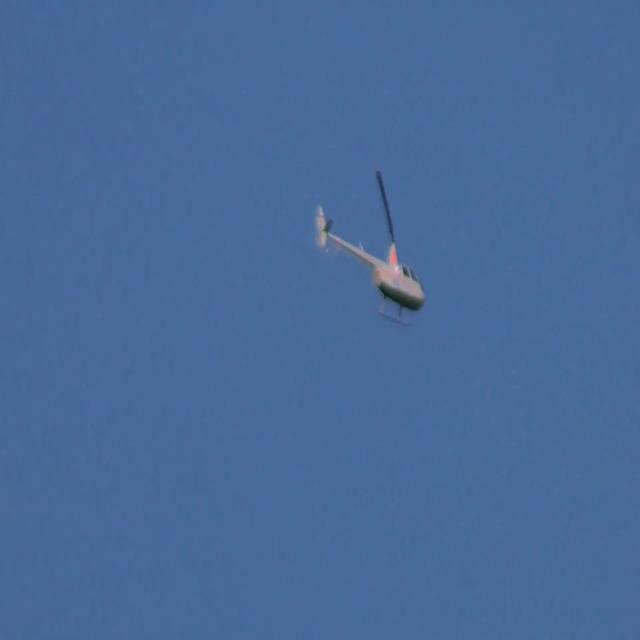CIV_HELO: (316, 204, 427, 330)
